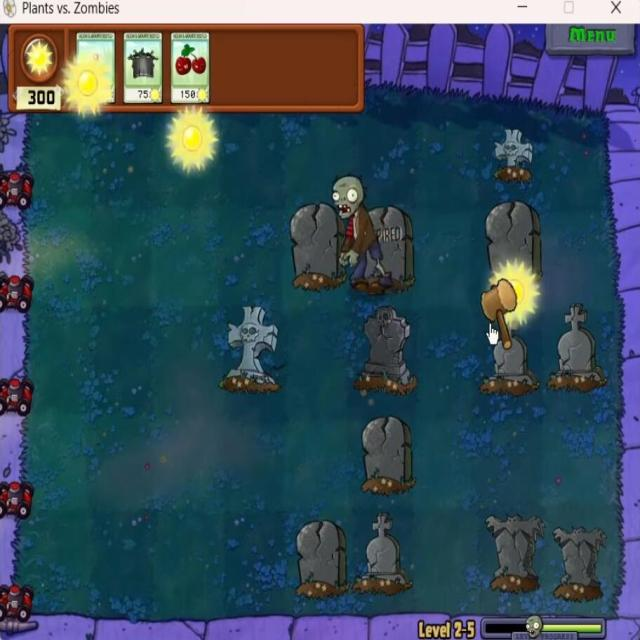sunshine: (165, 106, 218, 177), (65, 58, 114, 125), (495, 260, 541, 329)
zombies: (326, 169, 396, 298)
